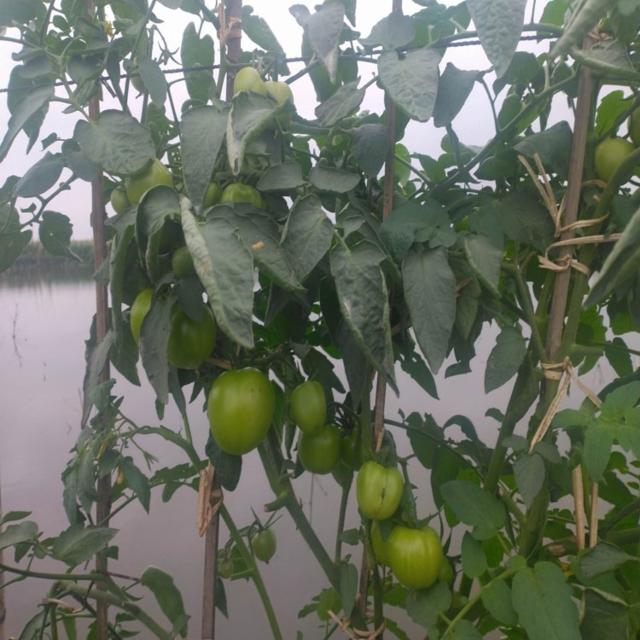tomato: (209, 373, 279, 452), (382, 525, 448, 587), (357, 459, 406, 520), (174, 317, 215, 373), (291, 385, 331, 431), (239, 67, 289, 98), (303, 432, 345, 466), (127, 168, 172, 194), (132, 290, 154, 337), (597, 138, 629, 169), (223, 182, 261, 205), (256, 528, 277, 565)
